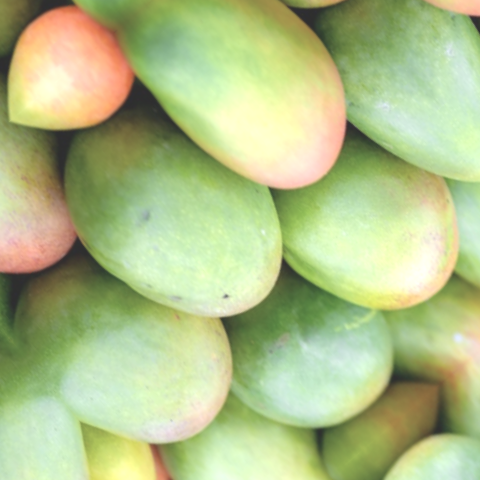mango: (20, 55, 339, 379), (0, 186, 282, 480), (91, 0, 403, 243), (187, 233, 448, 480)
